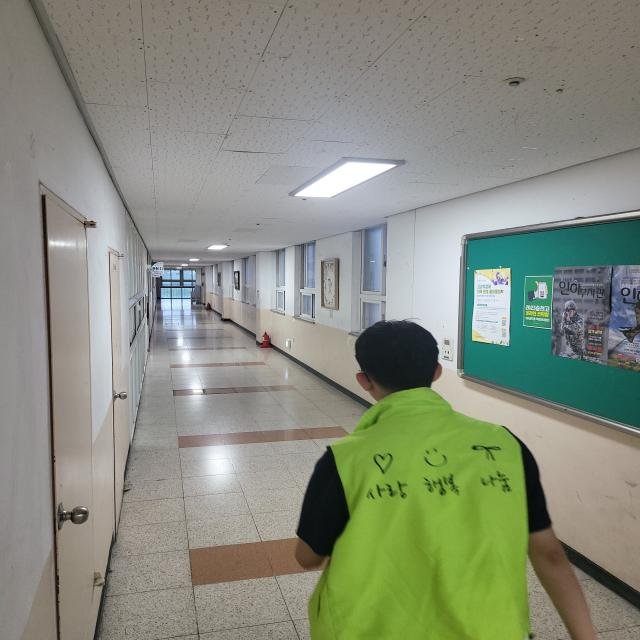weston_spy: (305, 393, 588, 640)
